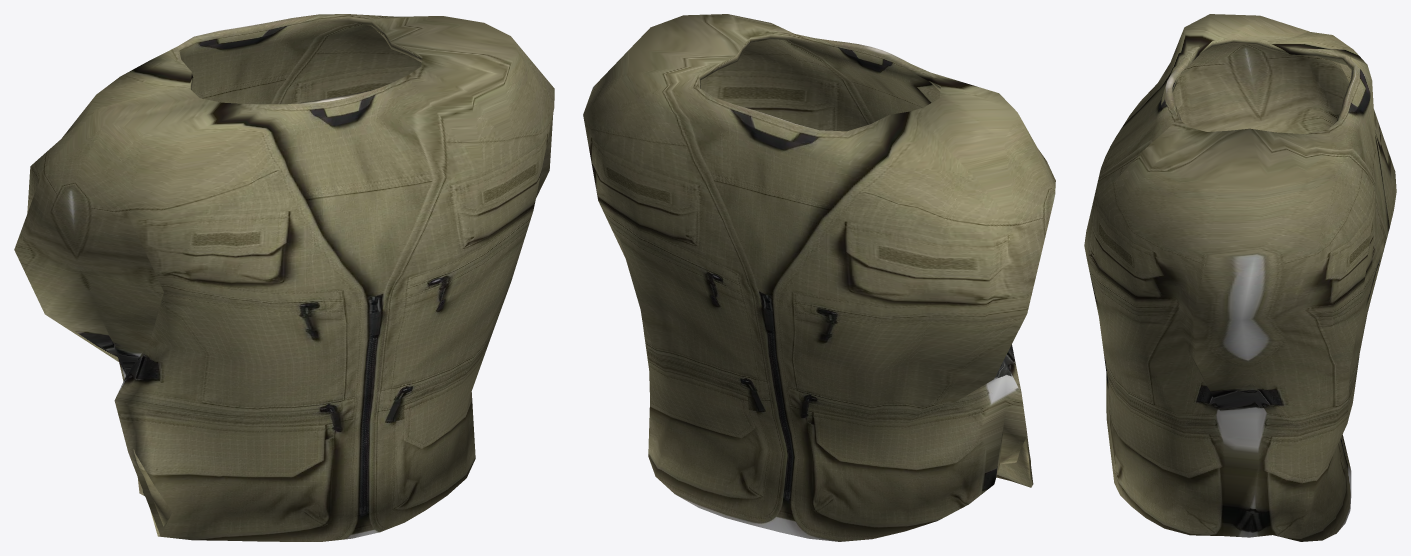
The model's file is 15551f62-34a4-4bdd-b858-ce3b9a9b4a53.glb.
3 renders of one model, left to right at view 1: azimuth 30°, elevation 25°; view 2: azimuth 150°, elevation 25°; view 3: azimuth 270°, elevation 25°, orthographic. The views are drawn at different scales.
Parts seen in each view (by area): view 1: garment; view 2: garment; view 3: garment.
Part boxes in pixels (bbox=[...]): garment: bbox=[14, 14, 554, 541]; garment: bbox=[583, 14, 1055, 541]; garment: bbox=[1084, 14, 1396, 541].
Size of the model in its own units: 0.5481 by 0.4647 by 0.3258.
1 material, 1 textured.
